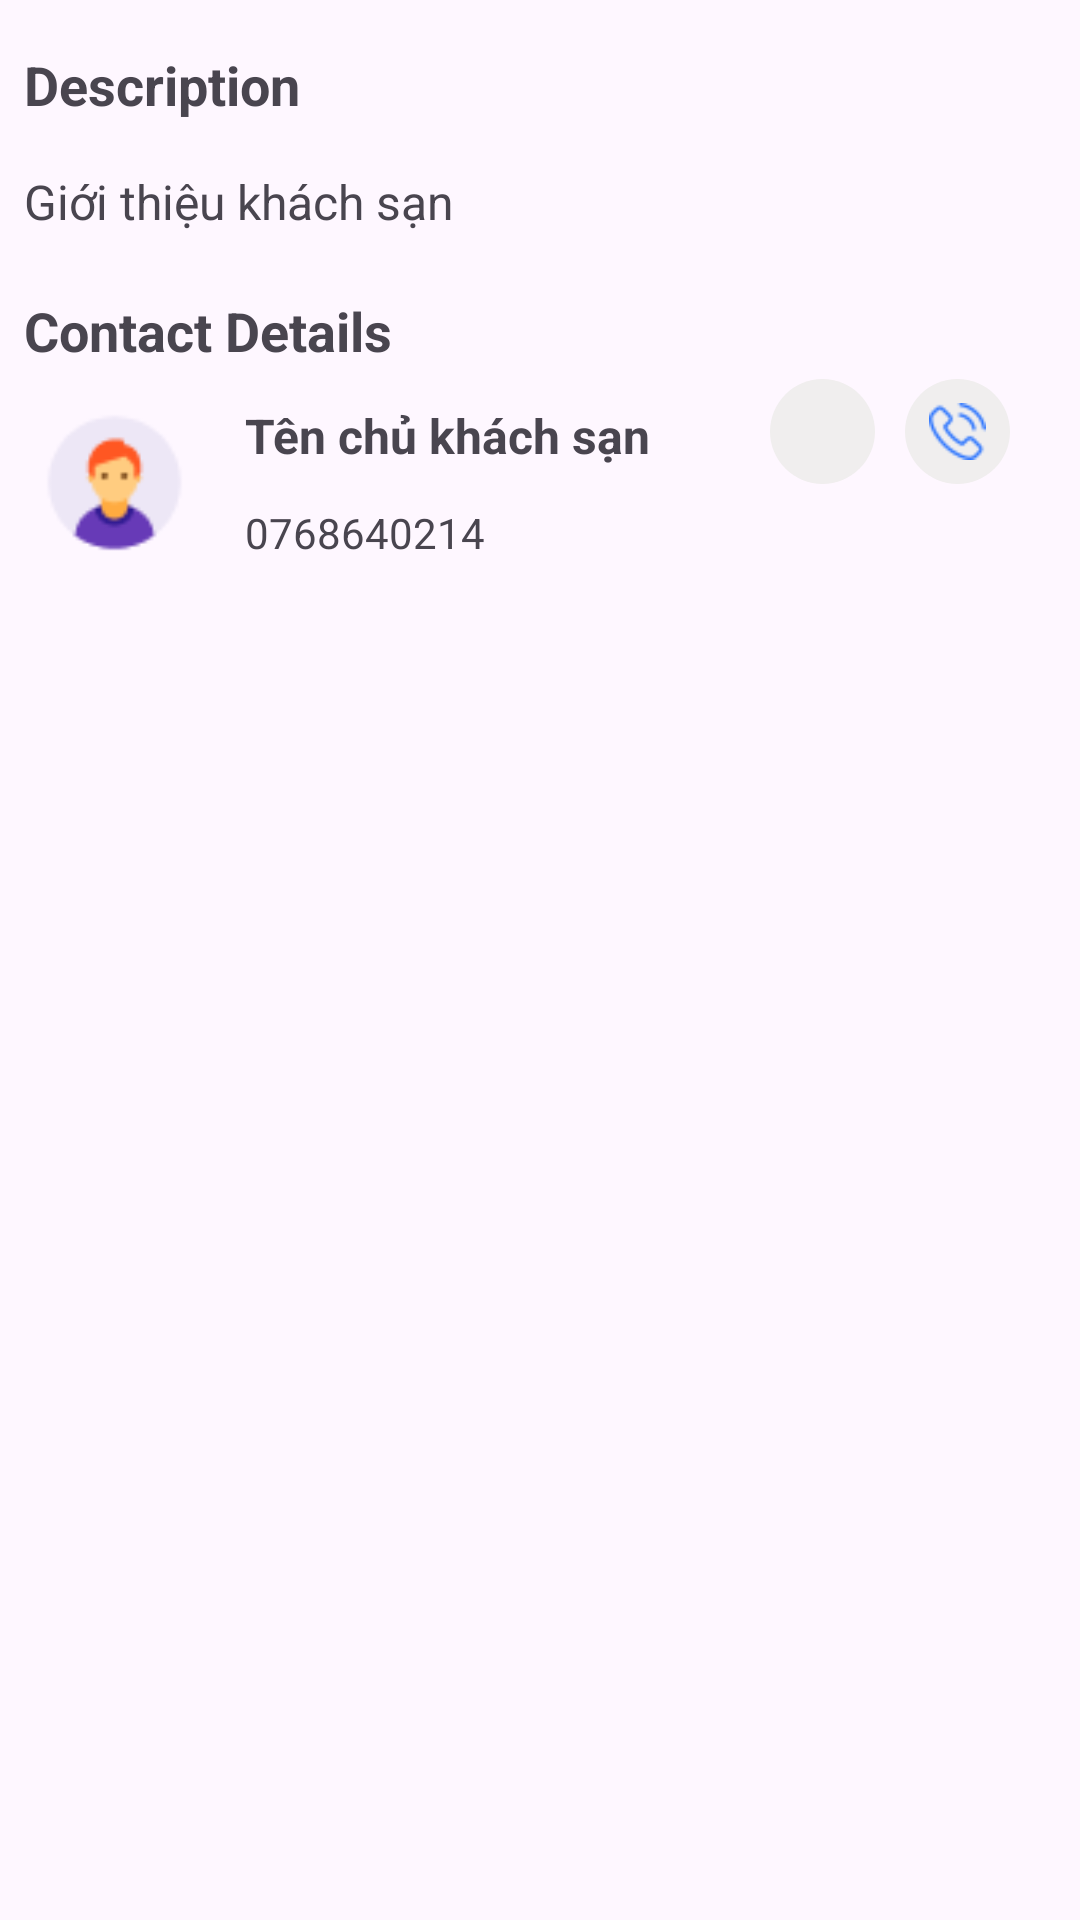

Named icons in this screenshot (1080*1920) and their centers, (x,y):
call contact: (957,431)
